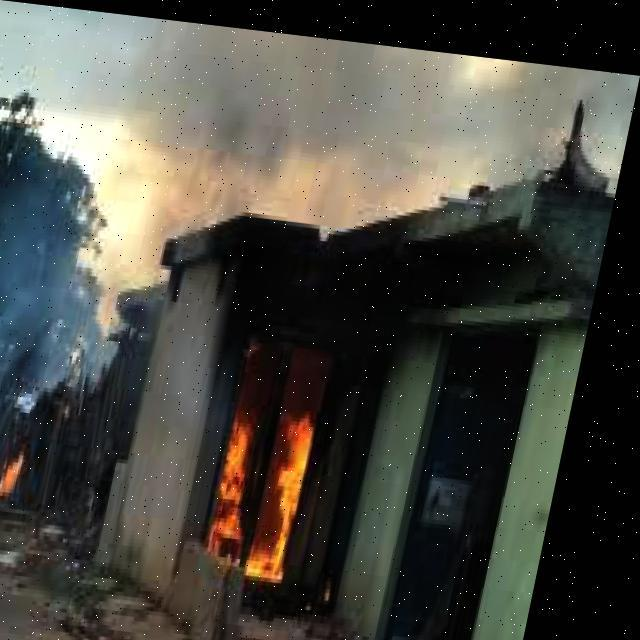Fire: (202, 343, 362, 580), (0, 441, 50, 495)
